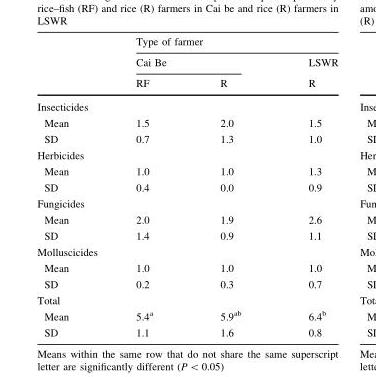table: (36, 36, 337, 337)
table column: (185, 36, 274, 337), (101, 36, 185, 337), (36, 36, 101, 337), (274, 36, 337, 337)
table column header: (36, 36, 337, 95)
table projected row header: (36, 95, 337, 115), (36, 147, 337, 163), (36, 195, 337, 211), (36, 244, 337, 260), (36, 292, 337, 307)
table row: (36, 72, 337, 95), (36, 51, 337, 72), (36, 95, 337, 115), (36, 211, 337, 228), (36, 307, 337, 324), (36, 115, 337, 131), (36, 131, 337, 147), (36, 147, 337, 163), (36, 163, 337, 179), (36, 179, 337, 195), (36, 195, 337, 211), (36, 228, 337, 244), (36, 244, 337, 260), (36, 260, 337, 276), (36, 276, 337, 292), (36, 36, 337, 51), (36, 292, 337, 307), (36, 324, 337, 337)
table spanning cell: (101, 51, 274, 72), (101, 36, 337, 51), (274, 51, 337, 95)
